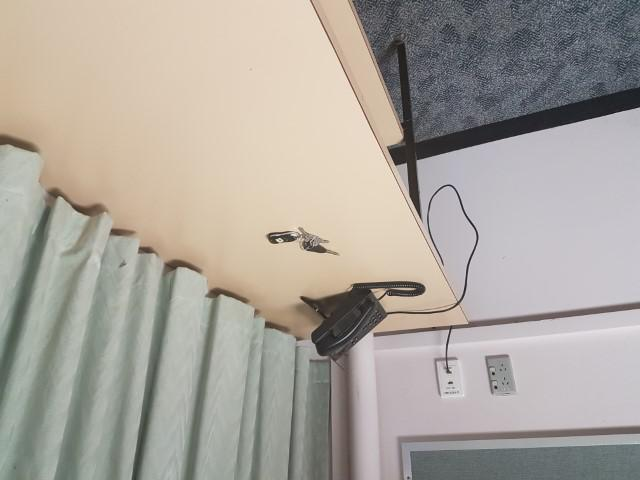key: (301, 238, 339, 257)
